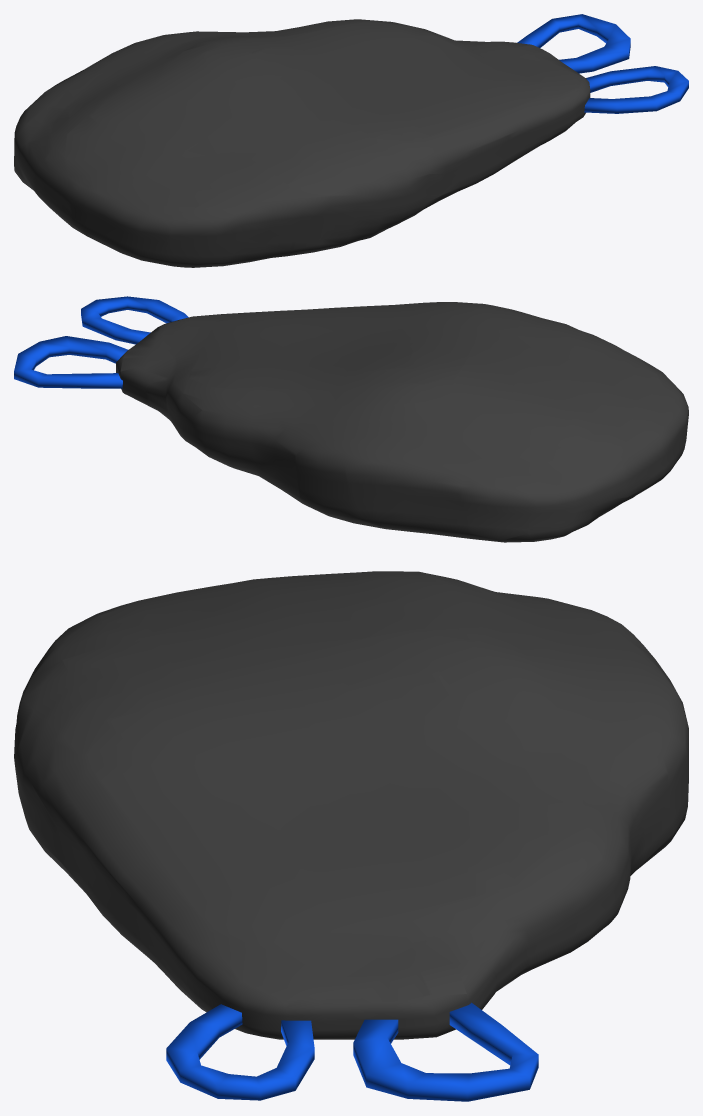
The model's file is Trash Bag.fbx.
3 views of the same model, one above another, from view 1: azimuth 30°, elevation 25°; view 2: azimuth 150°, elevation 25°; view 3: azimuth 270°, elevation 25° (orthographic). The views are drawn at different scales.
Parts seen in each view (by area): view 1: Trash Bag; view 2: Trash Bag; view 3: Trash Bag.
Part boxes in pixels (left/top/right/bottom): Trash Bag: left=14, top=14, right=688, bottom=267; Trash Bag: left=14, top=296, right=688, bottom=542; Trash Bag: left=14, top=571, right=688, bottom=1101.
Bounding box in the file's own units: 54.79 × 10.12 × 32.48.
